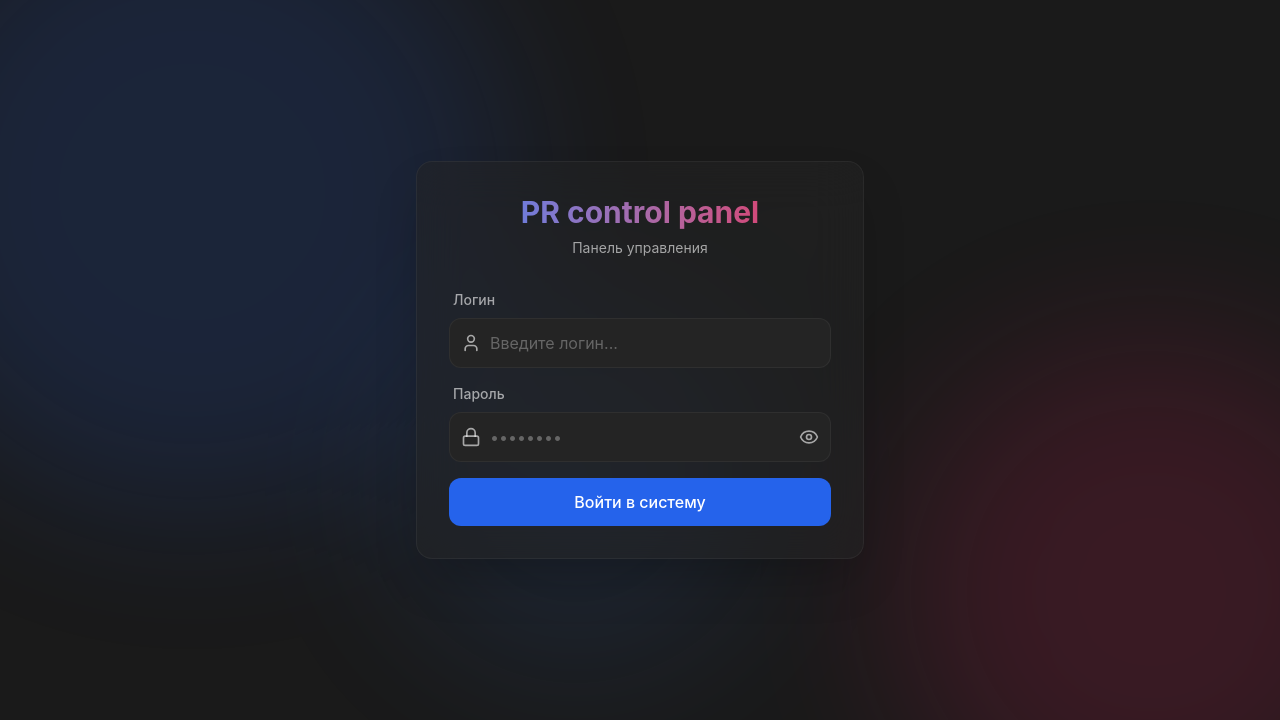
Login › shows backend error on failed login
The image size is (1280, 720).
Type "tester" into the field with placeholder "Введите логин..." at point(640, 343), box [449, 318, 831, 368]
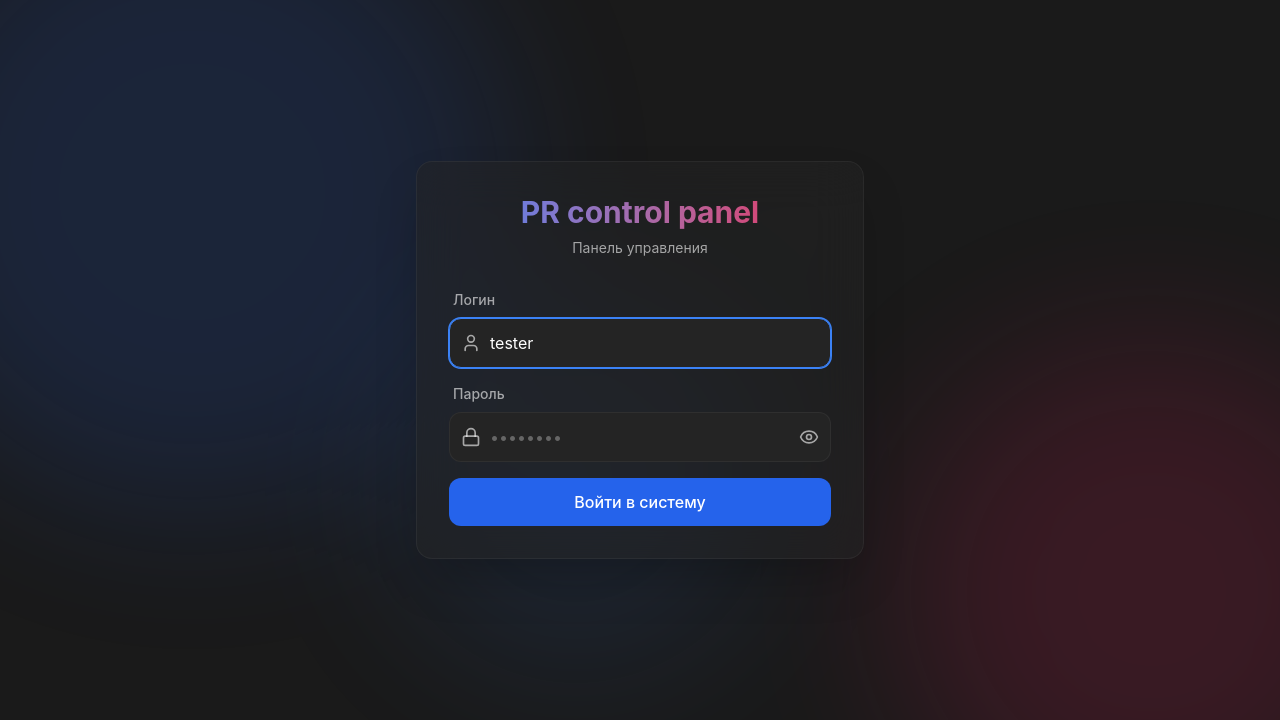
Type "wrong" into the password field with placeholder "••••••••" at point(640, 437), box [449, 412, 831, 462]
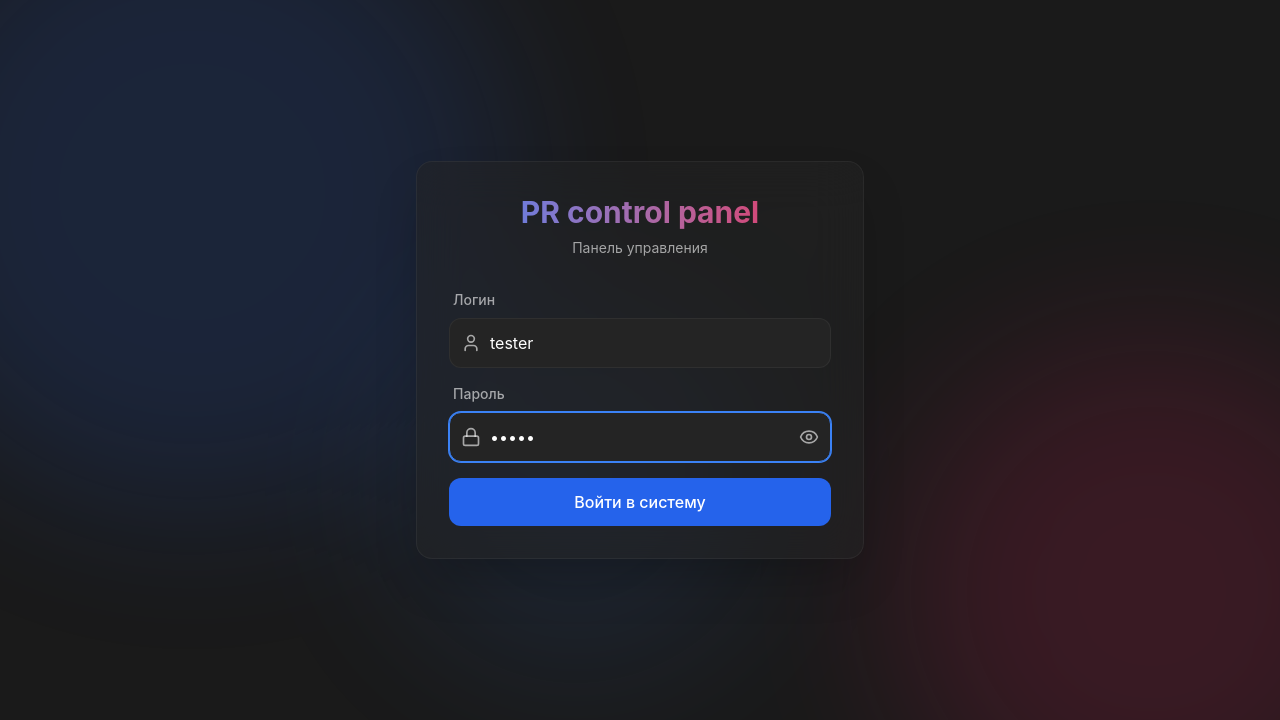
Click the button "Войти в систему" at point(640, 502), box [449, 478, 831, 526]
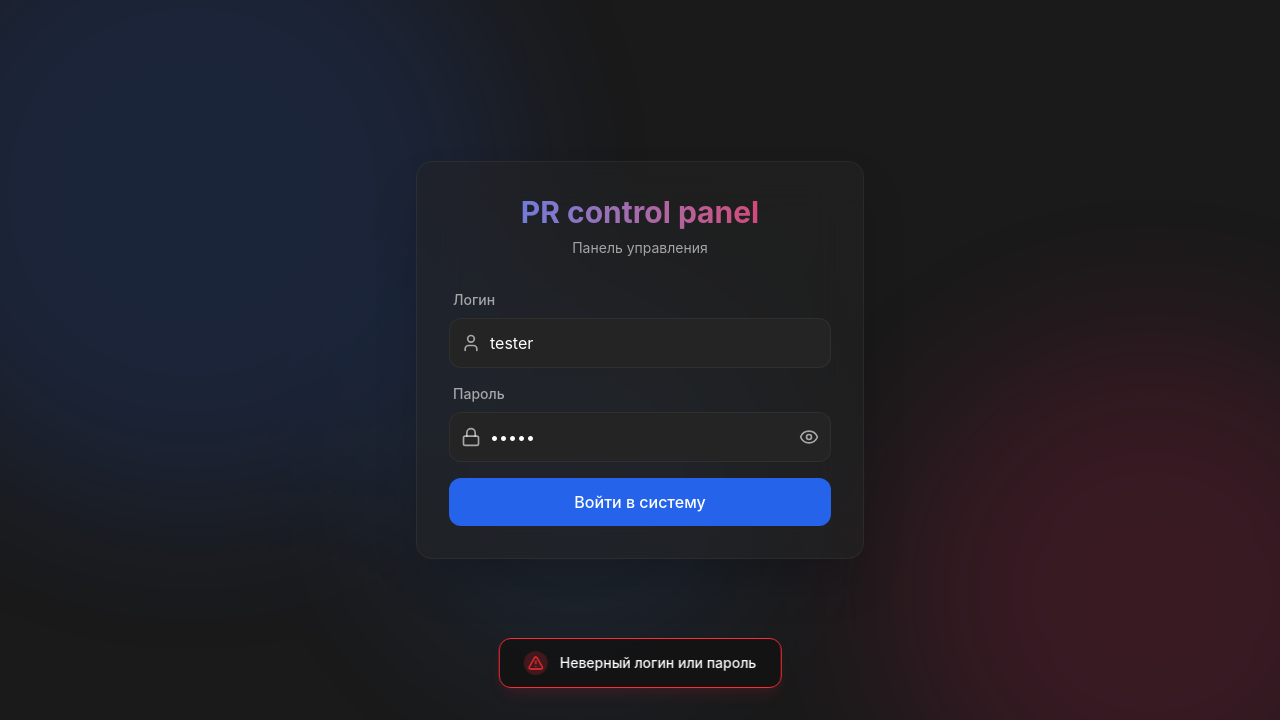
Result: the text "Неверный логин или пароль" is shown at [560, 653, 756, 673]
